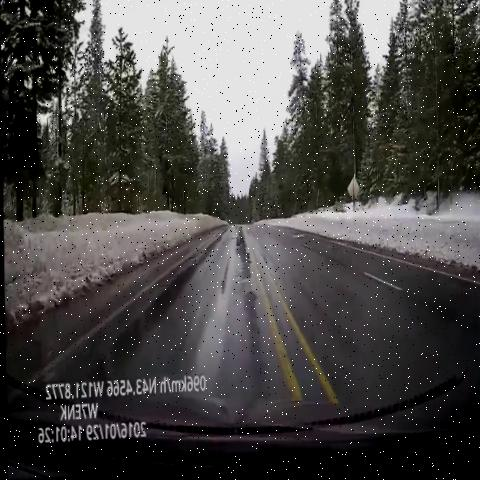pothole: (184, 243, 199, 269), (240, 253, 255, 273), (230, 231, 242, 255)
